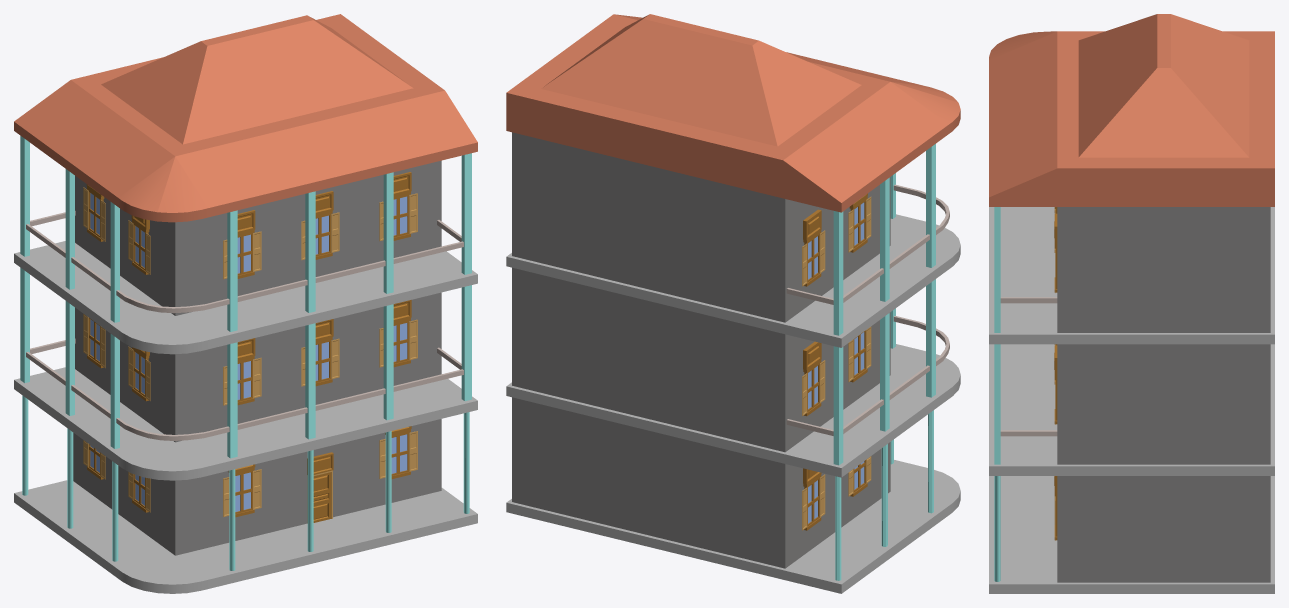
Rendered from Apt_3_story.fbx.
3 views of the same model, side by side, from view 1: azimuth 30°, elevation 25°; view 2: azimuth 150°, elevation 25°; view 3: azimuth 270°, elevation 25° (orthographic). The views are drawn at different scales.
Visible parts, largest first — view 1: mesh_apt_3_story_structure, mesh_apt_3_story_details; view 2: mesh_apt_3_story_structure, mesh_apt_3_story_details; view 3: mesh_apt_3_story_structure, mesh_apt_3_story_details.
Part boxes in pixels (<box>): mesh_apt_3_story_structure: <box>14,14,477,593</box>; mesh_apt_3_story_details: <box>83,172,417,523</box>; mesh_apt_3_story_structure: <box>506,14,960,593</box>; mesh_apt_3_story_details: <box>802,193,871,530</box>; mesh_apt_3_story_structure: <box>989,14,1274,593</box>; mesh_apt_3_story_details: <box>1054,207,1057,540</box>.
Bounding box in the file's own units: 9.2 × 12.5 × 6.7.
